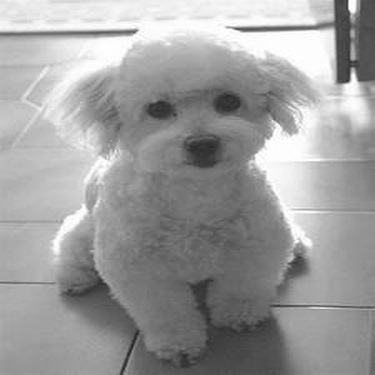dog: (22, 12, 329, 370)
